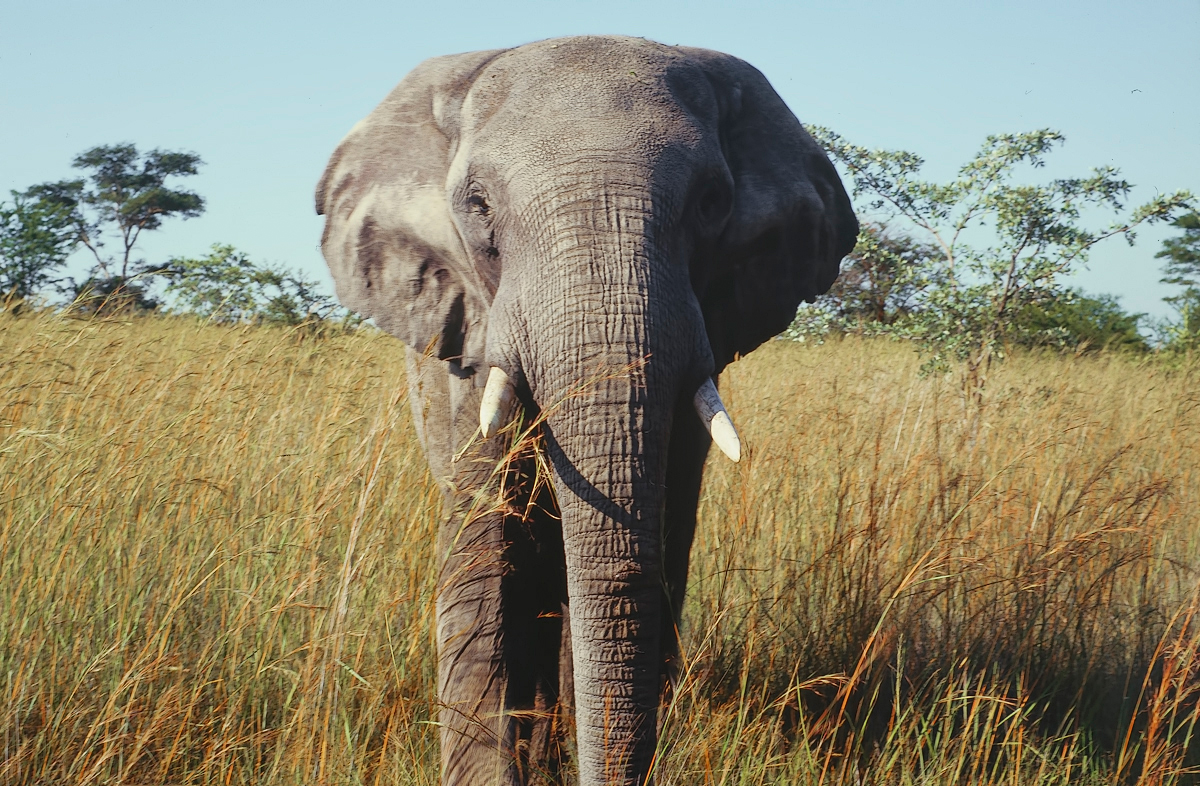africanelephant: (411, 17, 825, 526)
